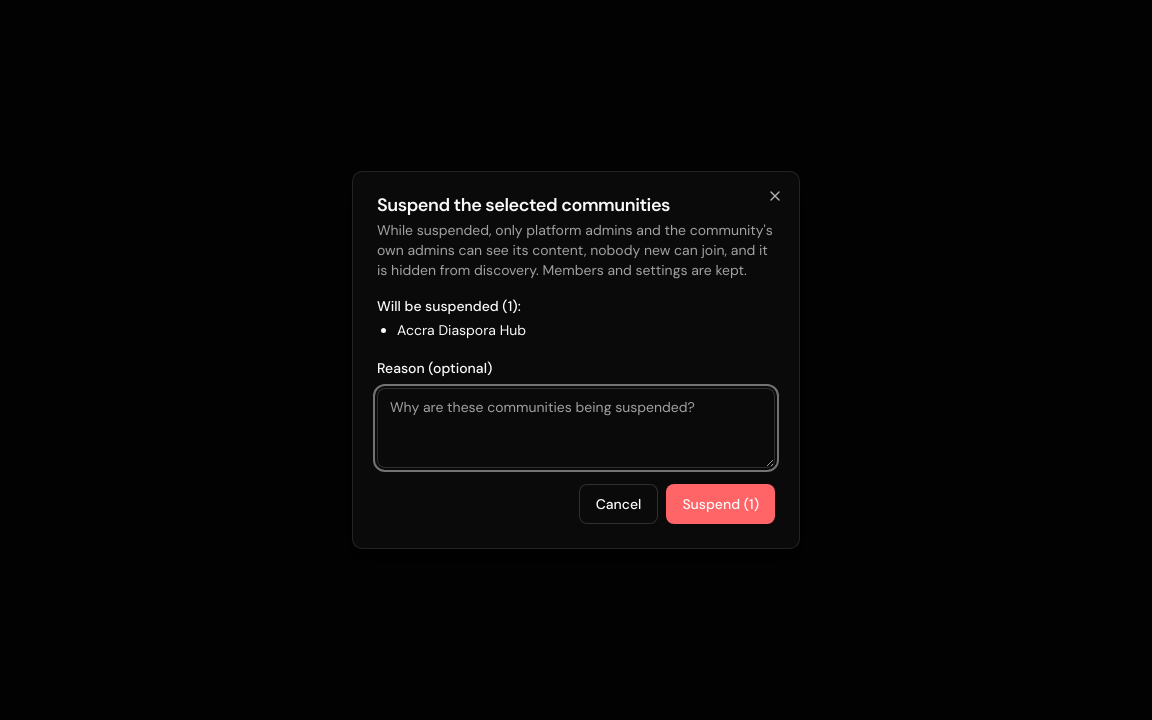
Scenario: BulkSuspendCommunitiesDialog › treats success:false as a failure and does not re-read when nothing changed
Click the button "Suspend (1)" at (721, 504), box [666,484,775,524]
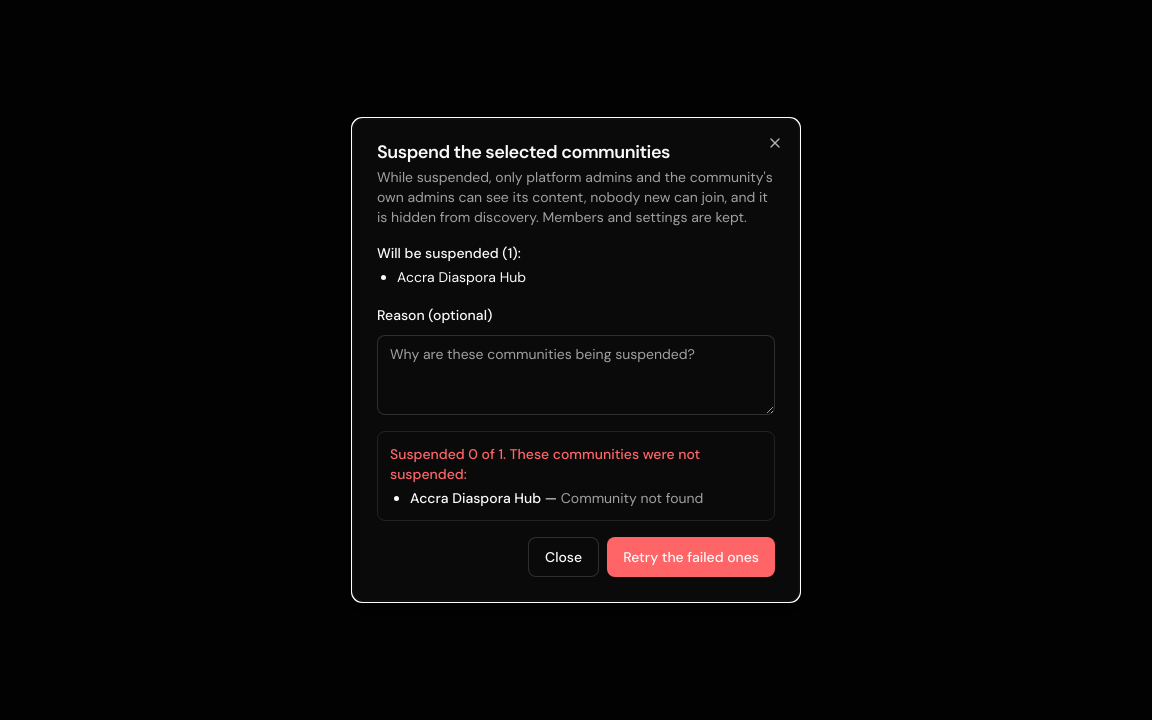
Now the message shows "Community not found", box [561,489,703,507]
